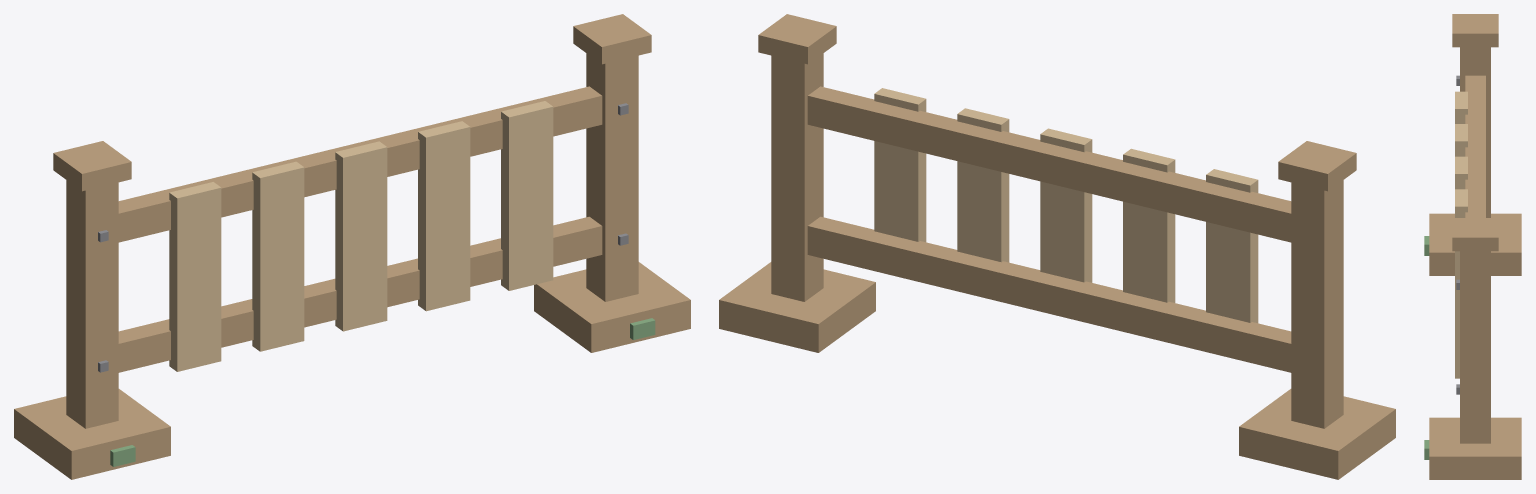
The model's file is 40-Infraestructura_valla_madera_recto.glb.
3 views of the same model, side by side, from view 1: azimuth 30°, elevation 25°; view 2: azimuth 150°, elevation 25°; view 3: azimuth 270°, elevation 25° (orthographic). The views are drawn at different scales.
Parts seen in each view (by area): view 1: SM_Valla_Tablas_NOFUNDIR, SM_Valla_Basas_Postes_NOFUNDIR, SM_Valla_Travesanos_NOFUNDIR, SM_Valla_Remates_NOFUNDIR, SM_Valla_M_Valla_Musgo; view 2: SM_Valla_Travesanos_NOFUNDIR, SM_Valla_Basas_Postes_NOFUNDIR, SM_Valla_Tablas_NOFUNDIR, SM_Valla_Remates_NOFUNDIR; view 3: SM_Valla_Basas_Postes_NOFUNDIR, SM_Valla_Remates_NOFUNDIR, SM_Valla_Travesanos_NOFUNDIR, SM_Valla_Tablas_NOFUNDIR, SM_Valla_M_Valla_Musgo, SM_Valla_Clavos_NOFUNDIR.
Boxes of the visible parts, bbox=[...] form: SM_Valla_Tablas_NOFUNDIR: bbox=[169, 101, 553, 371]; SM_Valla_Basas_Postes_NOFUNDIR: bbox=[14, 53, 690, 479]; SM_Valla_Travesanos_NOFUNDIR: bbox=[69, 86, 602, 381]; SM_Valla_Remates_NOFUNDIR: bbox=[53, 14, 651, 191]; SM_Valla_M_Valla_Musgo: bbox=[110, 318, 655, 466]; SM_Valla_Travesanos_NOFUNDIR: bbox=[807, 86, 1340, 381]; SM_Valla_Basas_Postes_NOFUNDIR: bbox=[719, 53, 1395, 479]; SM_Valla_Tablas_NOFUNDIR: bbox=[874, 88, 1258, 323]; SM_Valla_Remates_NOFUNDIR: bbox=[758, 14, 1356, 191]; SM_Valla_Basas_Postes_NOFUNDIR: bbox=[1429, 47, 1521, 479]; SM_Valla_Remates_NOFUNDIR: bbox=[1452, 14, 1498, 251]; SM_Valla_Travesanos_NOFUNDIR: bbox=[1465, 75, 1485, 302]; SM_Valla_Tablas_NOFUNDIR: bbox=[1455, 91, 1467, 378]; SM_Valla_M_Valla_Musgo: bbox=[1424, 236, 1429, 459]; SM_Valla_Clavos_NOFUNDIR: bbox=[1456, 75, 1459, 394].
Size of the model in its own units: 2.24 by 1 by 0.38.
